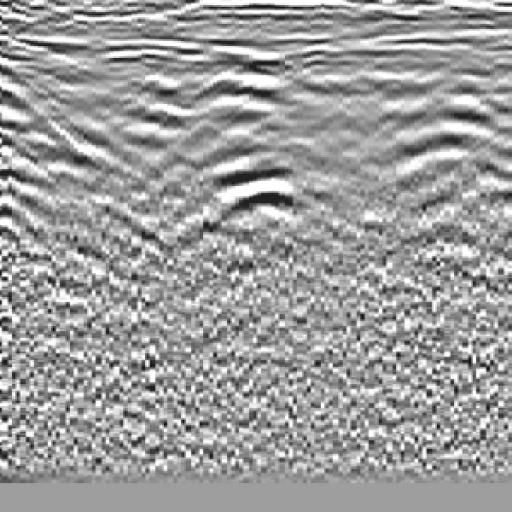metalic: (174, 134, 333, 263)
nonmetalic: (1, 49, 88, 275)
